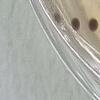brown: (86, 16, 99, 32), (69, 16, 81, 32), (52, 11, 62, 24)
